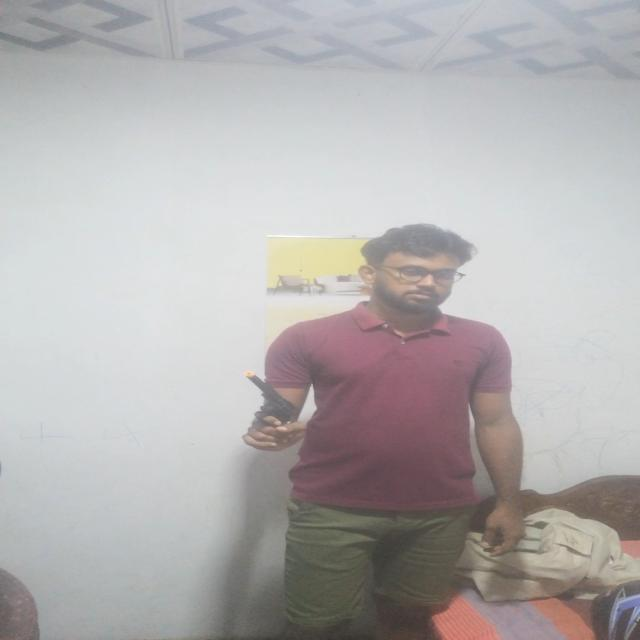Gun_Holder: (234, 372, 310, 446)
Person: (238, 226, 523, 640)
